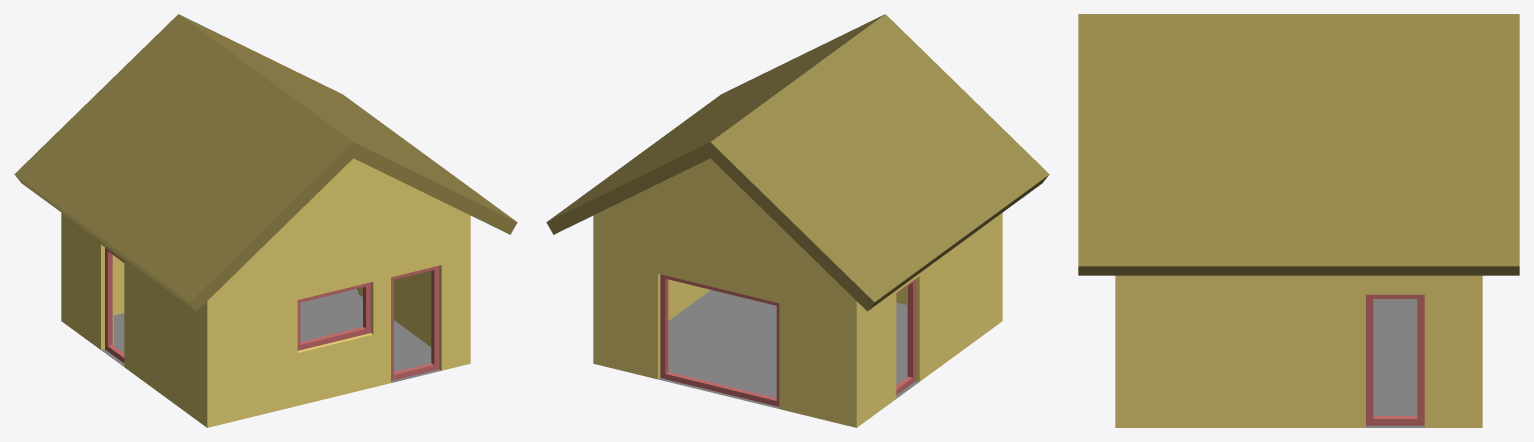
Rendered from result.glb.
3 renders of one model, left to right at view 1: azimuth 30°, elevation 25°; view 2: azimuth 150°, elevation 25°; view 3: azimuth 270°, elevation 25°, orthographic. The views are drawn at different scales.
Visible parts, largest first — view 1: 755c077e-cc4c-48b1-b08b-b1772a72b698__undefined (×2), 33675b56-5d69-42d6-8296-4614954f8a95__undefined, 3507d551-b612-499a-bb16-de3c2bd67303__Plane_6, 1c7b6e25-6a5c-4962-8726-ec4dd6cb12ca__Box, c9f04432-97ad-4ef9-825c-c1c8045dc2b3__Box_3, 194968a1-d159-4847-b039-0e07ce1114ab__Box_12; view 2: 755c077e-cc4c-48b1-b08b-b1772a72b698__undefined (×2), 33675b56-5d69-42d6-8296-4614954f8a95__undefined, 3507d551-b612-499a-bb16-de3c2bd67303__Plane_6, 0e9767c4-d0b4-4132-a010-f7b3a21ebdb7__Box_9, 194968a1-d159-4847-b039-0e07ce1114ab__Box_12; view 3: 755c077e-cc4c-48b1-b08b-b1772a72b698__undefined, 33675b56-5d69-42d6-8296-4614954f8a95__undefined, 3507d551-b612-499a-bb16-de3c2bd67303__Plane_6, 8af1faf4-7621-498e-a70b-7ce7126dcfe6__Box_15.
Part boxes in pixels (x1=…): 755c077e-cc4c-48b1-b08b-b1772a72b698__undefined (×2): x1=14, y1=14, x2=517, y2=311; 33675b56-5d69-42d6-8296-4614954f8a95__undefined: x1=61, y1=158, x2=470, y2=427; 3507d551-b612-499a-bb16-de3c2bd67303__Plane_6: x1=101, y1=289, x2=440, y2=382; 1c7b6e25-6a5c-4962-8726-ec4dd6cb12ca__Box: x1=391, y1=265, x2=439, y2=380; c9f04432-97ad-4ef9-825c-c1c8045dc2b3__Box_3: x1=297, y1=282, x2=370, y2=350; 194968a1-d159-4847-b039-0e07ce1114ab__Box_12: x1=105, y1=247, x2=124, y2=362; 755c077e-cc4c-48b1-b08b-b1772a72b698__undefined (×2): x1=546, y1=14, x2=1049, y2=311; 33675b56-5d69-42d6-8296-4614954f8a95__undefined: x1=593, y1=158, x2=1002, y2=427; 3507d551-b612-499a-bb16-de3c2bd67303__Plane_6: x1=658, y1=290, x2=918, y2=408; 0e9767c4-d0b4-4132-a010-f7b3a21ebdb7__Box_9: x1=660, y1=274, x2=779, y2=406; 194968a1-d159-4847-b039-0e07ce1114ab__Box_12: x1=896, y1=279, x2=915, y2=394; 755c077e-cc4c-48b1-b08b-b1772a72b698__undefined: x1=1078, y1=14, x2=1519, y2=275; 33675b56-5d69-42d6-8296-4614954f8a95__undefined: x1=1115, y1=275, x2=1482, y2=427; 3507d551-b612-499a-bb16-de3c2bd67303__Plane_6: x1=1366, y1=299, x2=1424, y2=427; 8af1faf4-7621-498e-a70b-7ce7126dcfe6__Box_15: x1=1366, y1=294, x2=1424, y2=425.
Size of the model in its own units: 650 by 500 by 600.
